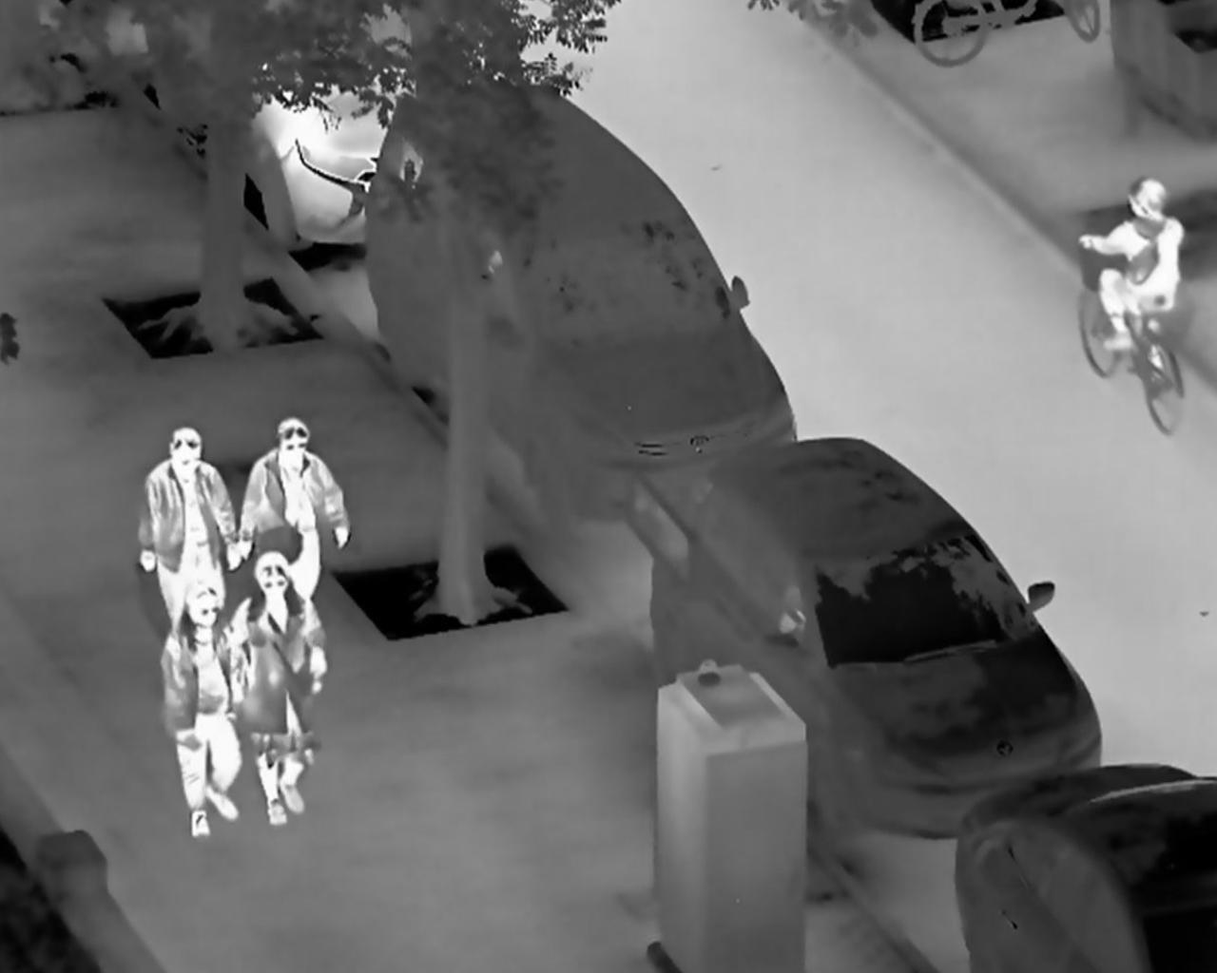person: (226, 551, 327, 828), (239, 416, 351, 609), (161, 582, 242, 838), (139, 427, 237, 631), (1085, 170, 1185, 358)
